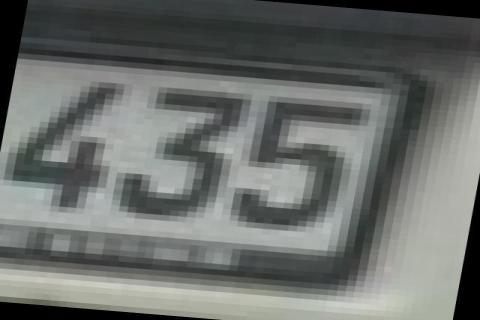LicensePlate: (0, 25, 452, 315)
